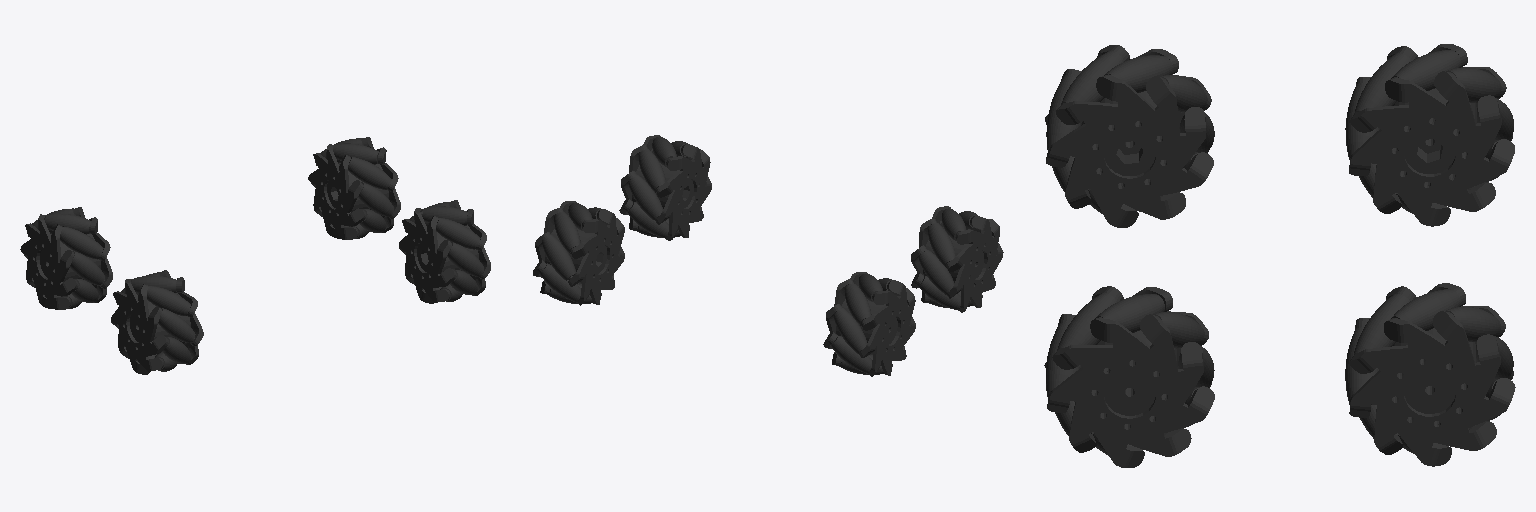
The robot description file, URDF, robot "robot":
<?xml version="1.0" encoding="utf-8"?>
<!-- This URDF was automatically created by SolidWorks to URDF Exporter! Originally created by [author] ([email redacted]) 
     Commit Version: 1.6.0-4-g7f85cfe  Build Version: 1.6.7995.38578
     For more information, please see http://wiki.ros.org/sw_urdf_exporter -->
<robot
  name="robot">
  <link
    name="base_link">
    <inertial>
      <origin
        xyz="6.8677E-06 -0.027077 0.022462"
        rpy="0 0 0" />
      <mass
        value="0.97387" />
      <inertia
        ixx="0.0025835"
        ixy="1.4512E-05"
        ixz="-7.1983E-06"
        iyy="0.0026984"
        iyz="-1.5132E-07"
        izz="0.0048085" />
    </inertial>
    <visual>
      <origin
        xyz="0 0 0"
        rpy="0 0 0" />
      <geometry>
        <mesh
          filename="package://robot/meshes/base_link.STL" />
      </geometry>
      <material
        name="">
        <color
          rgba="0.79216 0.81961 0.93333 1" />
      </material>
    </visual>
    <collision>
      <origin
        xyz="0 0 0"
        rpy="0 0 0" />
      <geometry>
        <mesh
          filename="package://robot/meshes/base_link.STL" />
      </geometry>
    </collision>
  </link>
  <link
    name="fr_Link">
    <inertial>
      <origin
        xyz="-0.017729 -1.3087E-05 4.7967E-05"
        rpy="0 0 0" />
      <mass
        value="0.12331" />
      <inertia
        ixx="3.1197E-05"
        ixy="-9.8423E-14"
        ixz="9.1364E-14"
        iyy="2.3803E-05"
        iyz="2.2611E-12"
        izz="2.3803E-05" />
    </inertial>
    <visual>
      <origin
        xyz="0 0 0"
        rpy="0 0 0" />
      <geometry>
        <mesh
          filename="package://robot/meshes/fr_Link.STL" />
      </geometry>
      <material
        name="">
        <color
          rgba="0.25098 0.25098 0.25098 1" />
      </material>
    </visual>
    <collision>
      <origin
        xyz="0 0 0"
        rpy="0 0 0" />
      <geometry>
        <mesh
          filename="package://robot/meshes/fr_Link.STL" />
      </geometry>
    </collision>
  </link>
  <joint
    name="fr"
    type="continuous">
    <origin
      xyz="-0.14541 -0.09055 -0.019003"
      rpy="0 0 3.1416" />
    <parent
      link="base_link" />
    <child
      link="fr_Link" />
    <axis
      xyz="1 0 0" />
  </joint>
  <link
    name="fl_Link">
    <inertial>
      <origin
        xyz="-0.017729 -4.9653E-05 2.5688E-06"
        rpy="0 0 0" />
      <mass
        value="0.12331" />
      <inertia
        ixx="3.1197E-05"
        ixy="-1.5121E-13"
        ixz="-3.6164E-14"
        iyy="2.3803E-05"
        iyz="-1.4356E-12"
        izz="2.3803E-05" />
    </inertial>
    <visual>
      <origin
        xyz="0 0 0"
        rpy="0 0 0" />
      <geometry>
        <mesh
          filename="package://robot/meshes/fl_Link.STL" />
      </geometry>
      <material
        name="">
        <color
          rgba="0.25098 0.25098 0.25098 1" />
      </material>
    </visual>
    <collision>
      <origin
        xyz="0 0 0"
        rpy="0 0 0" />
      <geometry>
        <mesh
          filename="package://robot/meshes/fl_Link.STL" />
      </geometry>
    </collision>
  </link>
  <joint
    name="fl"
    type="continuous">
    <origin
      xyz="0.14942 -0.090549 -0.019003"
      rpy="0 0 0" />
    <parent
      link="base_link" />
    <child
      link="fl_Link" />
    <axis
      xyz="1 0 0" />
  </joint>
  <link
    name="rr_Link">
    <inertial>
      <origin
        xyz="-0.017729 -4.7697E-06 4.9491E-05"
        rpy="0 0 0" />
      <mass
        value="0.12331" />
      <inertia
        ixx="3.1197E-05"
        ixy="-8.191E-14"
        ixz="1.3905E-13"
        iyy="2.3803E-05"
        iyz="1.9168E-12"
        izz="2.3803E-05" />
    </inertial>
    <visual>
      <origin
        xyz="0 0 0"
        rpy="0 0 0" />
      <geometry>
        <mesh
          filename="package://robot/meshes/rr_Link.STL" />
      </geometry>
      <material
        name="">
        <color
          rgba="0.25098 0.25098 0.25098 1" />
      </material>
    </visual>
    <collision>
      <origin
        xyz="0 0 0"
        rpy="0 0 0" />
      <geometry>
        <mesh
          filename="package://robot/meshes/rr_Link.STL" />
      </geometry>
    </collision>
  </link>
  <joint
    name="rr"
    type="continuous">
    <origin
      xyz="-0.14741 0.04645 -0.019003"
      rpy="0 0 3.1416" />
    <parent
      link="base_link" />
    <child
      link="rr_Link" />
    <axis
      xyz="1 0 0" />
  </joint>
  <link
    name="rl_Link">
    <inertial>
      <origin
        xyz="-0.017729 -1.109E-05 4.8467E-05"
        rpy="0 0 0" />
      <mass
        value="0.12331" />
      <inertia
        ixx="3.1197E-05"
        ixy="-9.711E-14"
        ixz="9.4571E-14"
        iyy="2.3803E-05"
        iyz="2.1971E-12"
        izz="2.3803E-05" />
    </inertial>
    <visual>
      <origin
        xyz="0 0 0"
        rpy="0 0 0" />
      <geometry>
        <mesh
          filename="package://robot/meshes/rl_Link.STL" />
      </geometry>
      <material
        name="">
        <color
          rgba="0.25098 0.25098 0.25098 1" />
      </material>
    </visual>
    <collision>
      <origin
        xyz="0 0 0"
        rpy="0 0 0" />
      <geometry>
        <mesh
          filename="package://robot/meshes/rl_Link.STL" />
      </geometry>
    </collision>
  </link>
  <joint
    name="rl"
    type="continuous">
    <origin
      xyz="0.14742 0.04645 -0.019003"
      rpy="0 0 0" />
    <parent
      link="base_link" />
    <child
      link="rl_Link" />
    <axis
      xyz="1 0 0" />
  </joint>
</robot>

--- Render facts (derived) ---
The picture shows the robot from 3 angles, left to right: view 1: azimuth 30°, elevation 25°; view 2: azimuth 150°, elevation 25°; view 3: azimuth 270°, elevation 25°; orthographic projection.
Robot: robot — 5 links, 4 joints (4 continuous); root link base_link; default pose: every joint at zero.
Visible links, largest first — view 1: rl_Link, rr_Link, fl_Link, fr_Link; view 2: rr_Link, fl_Link, rl_Link, fr_Link; view 3: fl_Link, rl_Link, fr_Link, rr_Link.
Boxes of the visible links, <box> form: rl_Link: <box>308,137,400,239</box>; rr_Link: <box>20,207,112,309</box>; fl_Link: <box>399,200,490,303</box>; fr_Link: <box>111,270,203,374</box>; rr_Link: <box>823,272,915,376</box>; fl_Link: <box>619,135,711,240</box>; rl_Link: <box>533,201,624,305</box>; fr_Link: <box>911,206,1003,312</box>; fl_Link: <box>1044,286,1214,467</box>; rl_Link: <box>1345,283,1515,466</box>; fr_Link: <box>1045,45,1214,227</box>; rr_Link: <box>1345,44,1514,226</box>.
Bounding box of the posed robot: 0.3028 × 0.2151 × 0.0778 m (x, y, z).
Meshes: 5 distinct files referenced, 4 mesh visuals loaded (4 binary STL); not drawn: 1 (reference not matched to a file when rendering).